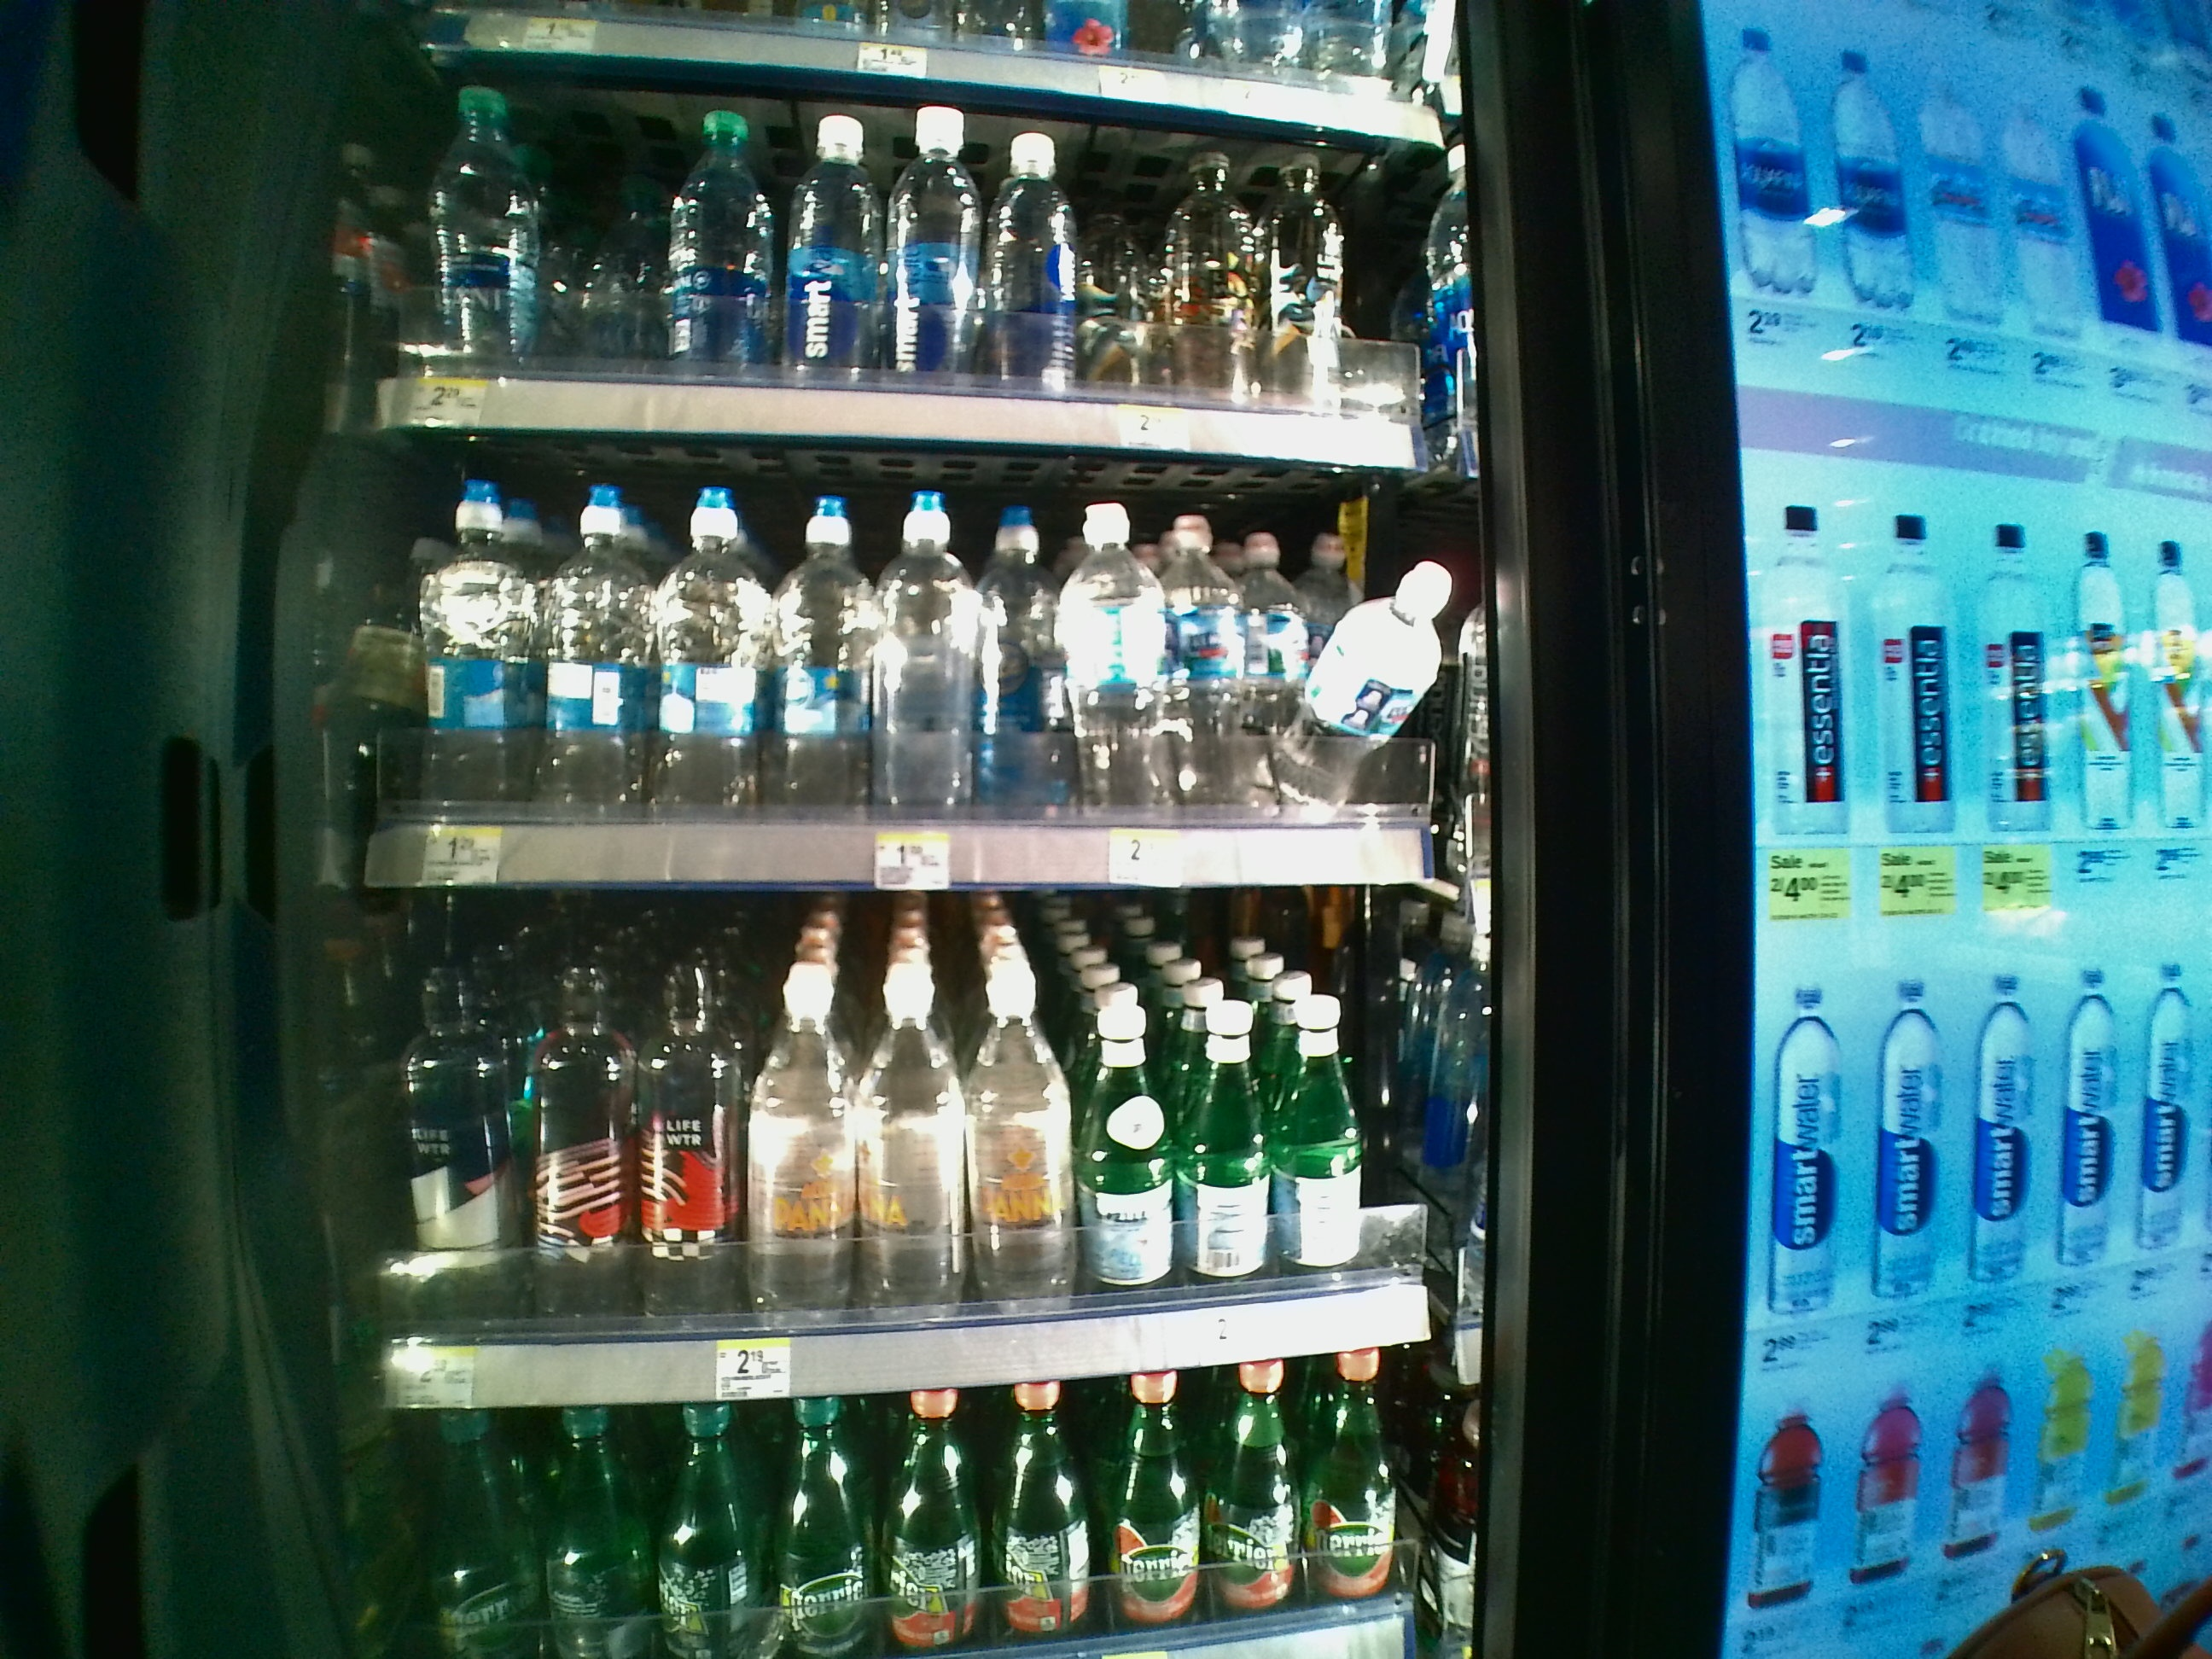shelf: (348, 897, 1514, 1412), (355, 425, 1465, 892)
